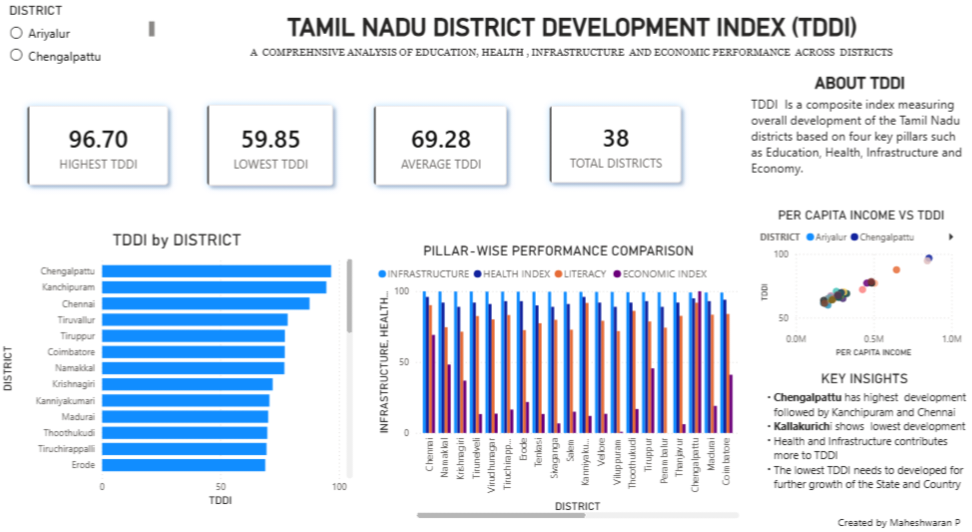

This screenshot's page, from the dashboard's own definition file:
{"tool":"powerbi","page":{"name":"Page 1","canvas":[1280,720],"ordinal":0},"visuals":[{"type":"cardVisual","title":"HIGHEST  TDDI","fields":{"Data":["Max(Sheet1.TDDI)"]},"box":[10.1,131.1,242.5,162.8],"z":0,"group":"g1"},{"type":"textbox","title":"TAMIL NADU DISTRICT DEVELOPMENT  INDEX (TDDI) ","box":[226.8,38.3,1053.1,68],"z":1000},{"type":"cardVisual","title":"LOWEST TDDI","fields":{"Data":["Min(Sheet1.TDDI)"]},"box":[245.6,129.6,223.4,164.6],"z":1000,"group":"g1"},{"type":"group","id":"g1","title":"Group 1","box":[10.1,129.6,915.8,161.3],"z":2000},{"type":"cardVisual","title":"AVERAGE TDDI","fields":{"Data":["Avg(Sheet1.TDDI)"]},"box":[464.3,131.1,233,162.8],"z":2000,"group":"g1"},{"type":"textbox","title":"ABOUT  TDDI ","box":[983.5,118.1,295.2,165.6],"z":3000},{"type":"cardVisual","title":"TOTAL DISTRICTS","fields":{"Data":["CountNonNull(Sheet1.TDDI)"]},"box":[695,131.4,230.6,159.2],"z":3000,"group":"g1"},{"type":"clusteredColumnChart","title":"PILLAR-WISE  PERFORMANCE COMPARISON","fields":{"Category":["Sheet1.DISTRICT"],"Y":["Sum(Sheet1.INFRASTRUCTURE)","Sum(Sheet1.HEALTH INDEX)","Sum(Sheet1.LITERACY )","Sum(Sheet1.ECONOMIC INDEX)"]},"box":[493.9,338.4,483.8,367.2],"z":4000},{"type":"barChart","fields":{"Category":["Sheet1.DISTRICT"],"Y":["Sum(Sheet1.TDDI)"]},"box":[0,324,470.9,367.2],"z":5000},{"type":"listSlicer","fields":{"Values":["Sheet1.DISTRICT"]},"box":[10.1,24.5,201.6,93.6],"z":6000},{"type":"textbox","title":"KEY INSIGHTS","box":[995,506.9,283.7,184.3],"z":7000},{"type":"textbox","box":[1097.3,691.2,182.9,28.8],"z":8000},{"type":"scatterChart","title":"PER CAPITA INCOME VS TDDI ","fields":{"X":["Sum(Sheet1.GDP PER CAPITA)"],"Y":["Sum(Sheet1.TDDI)"],"Series":["Sheet1.DISTRICT"]},"box":[995,293.8,275,200.2],"z":9000}]}

Visuals, with their boxes in screenshot pixels (x1, y1, x2, y2), scaled from the page's 1280x720 canvas onto the 972x532 screenshot:
"HIGHEST  TDDI" cardVisual: [left=8, top=97, right=192, bottom=217]
"TAMIL NADU DISTRICT DEVELOPMENT  INDEX (TDDI) " textbox: [left=172, top=28, right=971, bottom=79]
"LOWEST TDDI" cardVisual: [left=187, top=96, right=356, bottom=217]
"Group 1" group: [left=8, top=96, right=703, bottom=215]
"AVERAGE TDDI" cardVisual: [left=353, top=97, right=530, bottom=217]
"ABOUT  TDDI " textbox: [left=747, top=87, right=971, bottom=210]
"TOTAL DISTRICTS" cardVisual: [left=528, top=97, right=703, bottom=215]
"PILLAR-WISE  PERFORMANCE COMPARISON" clusteredColumnChart: [left=375, top=250, right=742, bottom=521]
barChart - Sheet1.DISTRICT x Sum(Sheet1.TDDI): [left=0, top=239, right=358, bottom=511]
listSlicer - Sheet1.DISTRICT: [left=8, top=18, right=161, bottom=87]
"KEY INSIGHTS" textbox: [left=756, top=375, right=971, bottom=511]
textbox: [left=833, top=511, right=971, bottom=531]
"PER CAPITA INCOME VS TDDI " scatterChart: [left=756, top=217, right=964, bottom=365]
